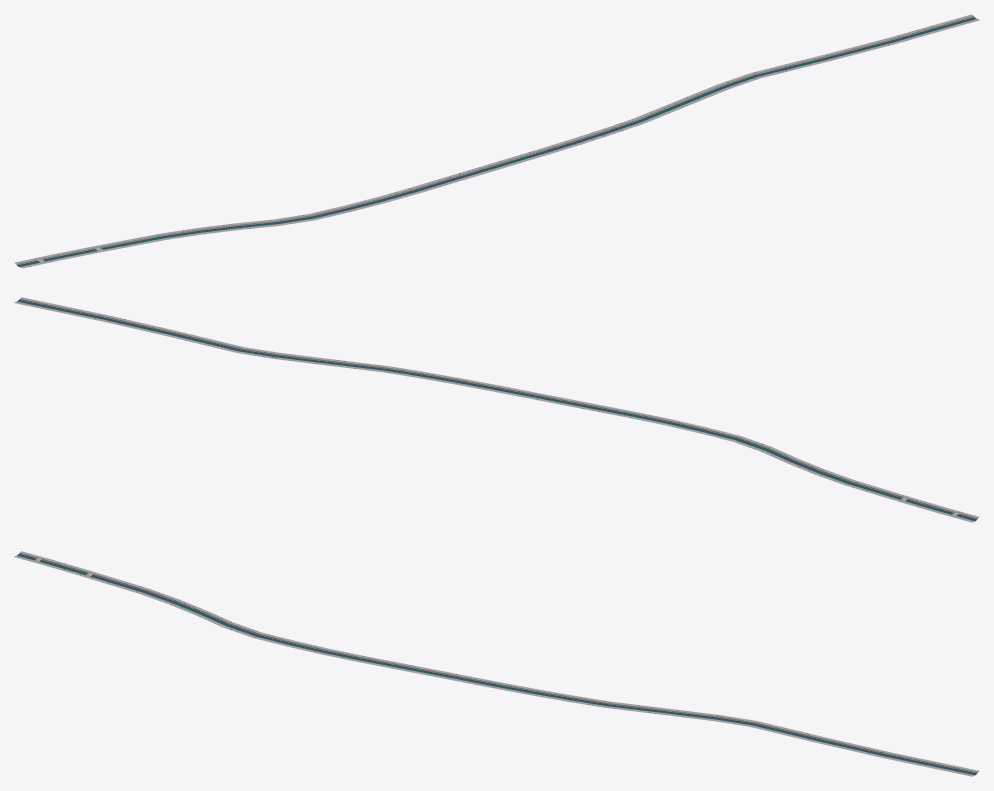
The picture shows the model from 3 angles, top to bottom: view 1: azimuth 30°, elevation 25°; view 2: azimuth 150°, elevation 25°; view 3: azimuth 330°, elevation 25°; orthographic projection. The views are drawn at different scales.
Visible parts, largest first — view 1: city_ground_ribbon, water_surface_ribbon_pbr, retaining_wall_5layer_neg2_5m, stream_bed_gravel_ribbon; view 2: city_ground_ribbon, water_surface_ribbon_pbr, retaining_wall_5layer_neg2_5m, stream_bed_gravel_ribbon; view 3: city_ground_ribbon, water_surface_ribbon_pbr, retaining_wall_5layer_neg2_5m, stream_bed_gravel_ribbon.
Boxes of the visible parts, bbox=[...] form: city_ground_ribbon: bbox=[14, 14, 979, 268]; water_surface_ribbon_pbr: bbox=[17, 17, 976, 266]; retaining_wall_5layer_neg2_5m: bbox=[16, 16, 974, 265]; stream_bed_gravel_ribbon: bbox=[17, 18, 975, 266]; city_ground_ribbon: bbox=[14, 297, 979, 522]; water_surface_ribbon_pbr: bbox=[17, 300, 976, 520]; retaining_wall_5layer_neg2_5m: bbox=[19, 299, 977, 521]; stream_bed_gravel_ribbon: bbox=[18, 301, 976, 521]; city_ground_ribbon: bbox=[14, 551, 979, 776]; water_surface_ribbon_pbr: bbox=[17, 554, 976, 775]; retaining_wall_5layer_neg2_5m: bbox=[19, 553, 977, 775]; stream_bed_gravel_ribbon: bbox=[18, 555, 976, 775].
Size of the model in its own units: 2714 by 3.85 by 228.
Materials: 5 (5 with a texture image).
